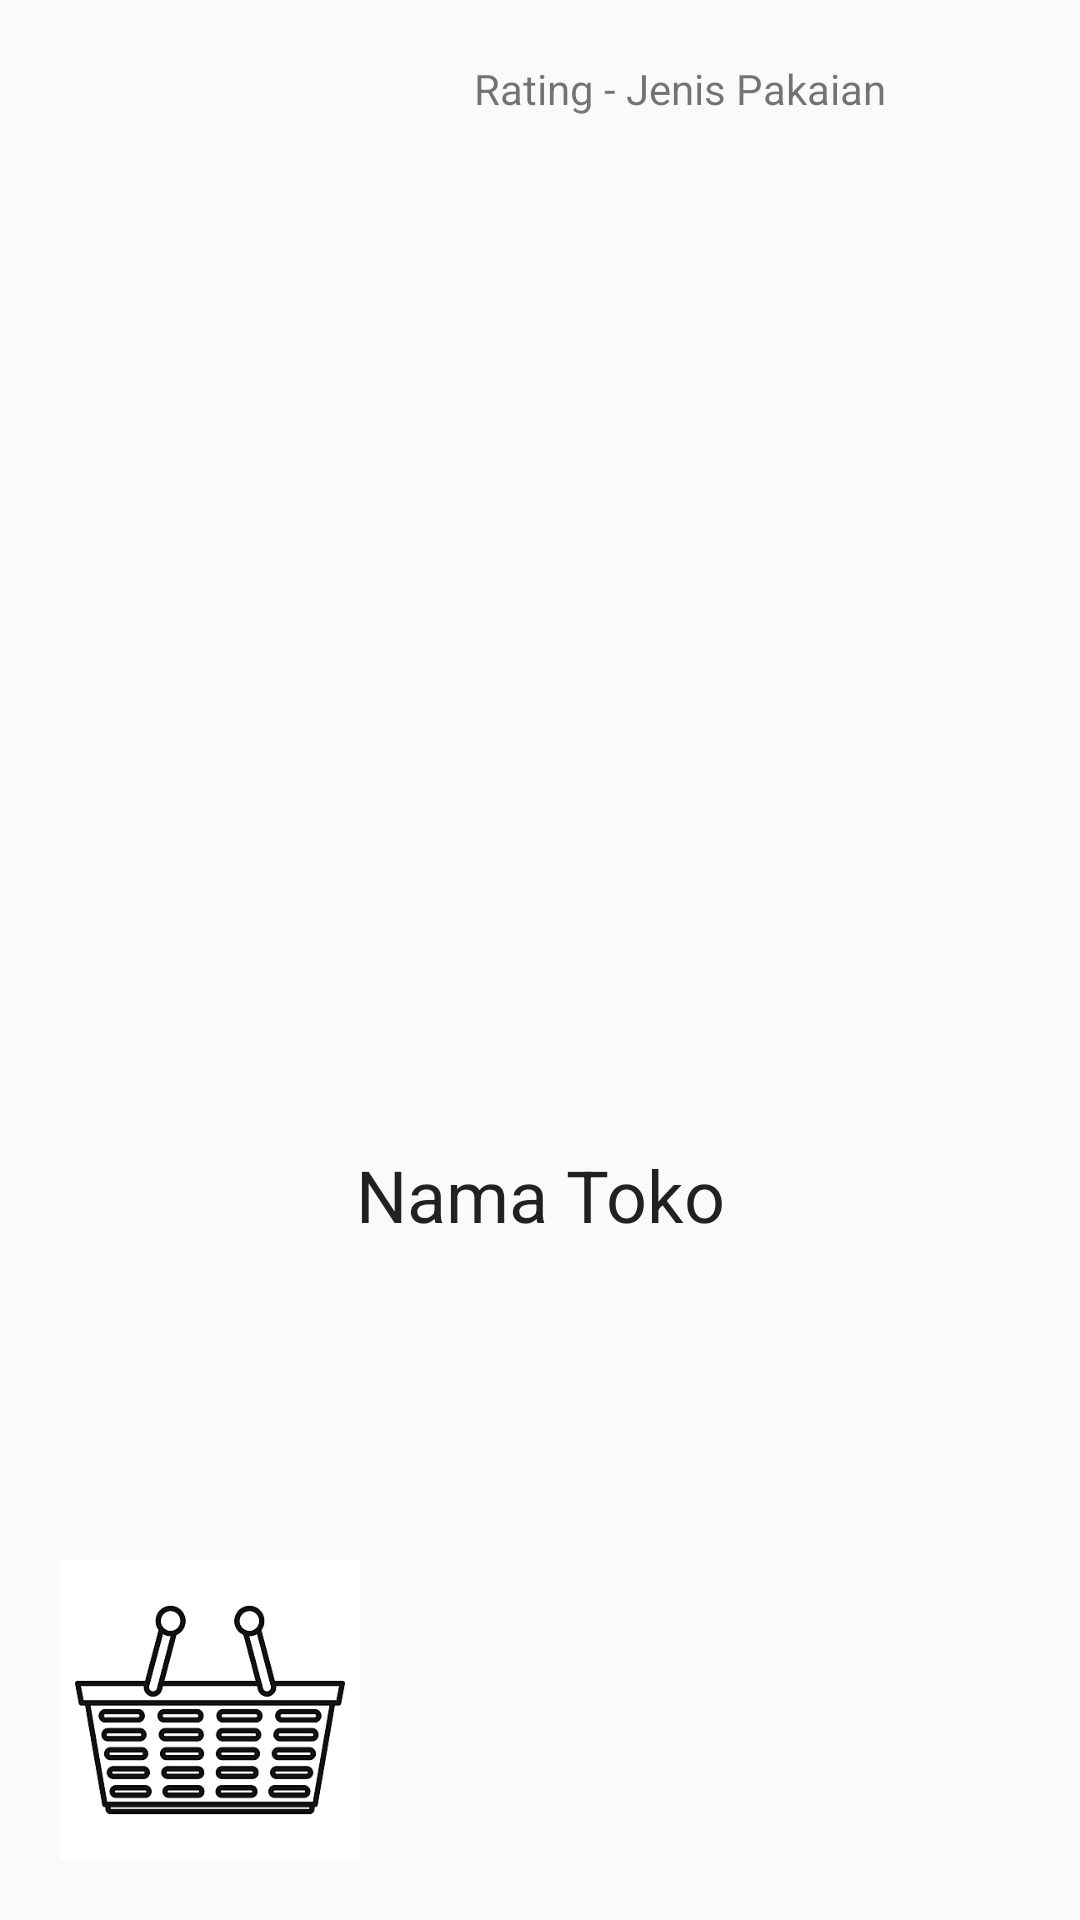

Icons on this 1080w x 1920h Android screen, each with its box as (x1, y1, x2, y2):
keranjang: (75, 1605, 345, 1815)
